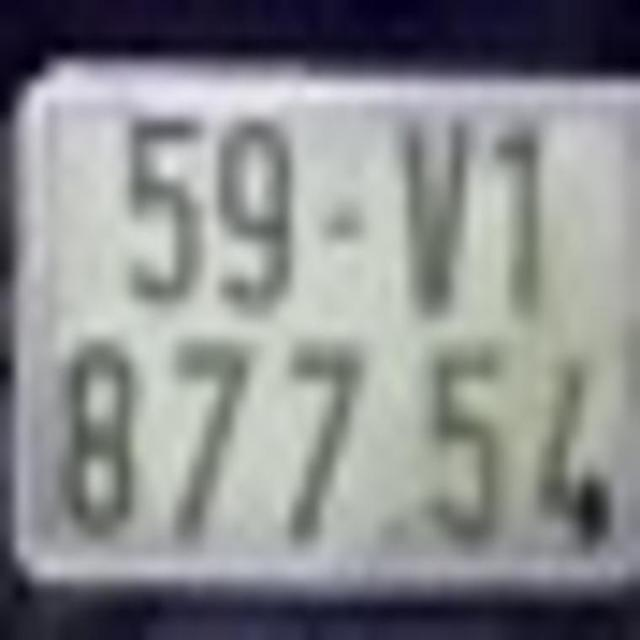1: (487, 115, 550, 320)
4: (534, 345, 616, 557)
5: (423, 333, 509, 548), (121, 108, 207, 306)
7: (162, 330, 256, 546), (277, 332, 368, 550)
8: (61, 333, 139, 537)
9: (214, 113, 298, 317)
V: (393, 108, 478, 319)
